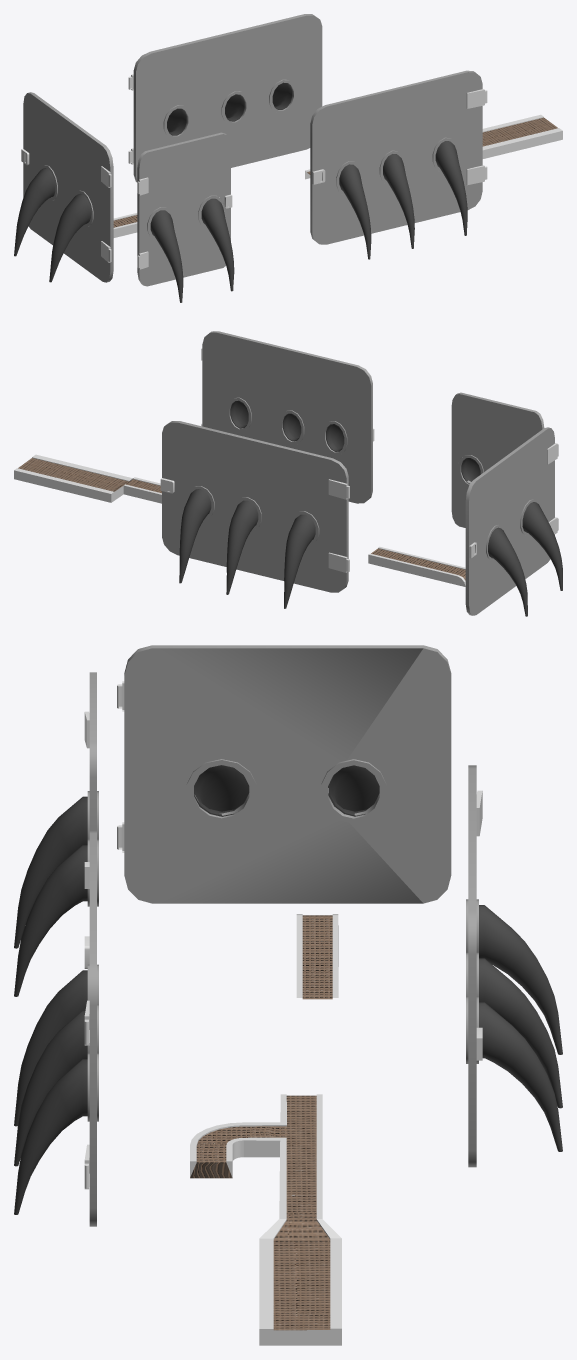
Rendered from window belt.fbx.
The picture shows the model from 3 angles, top to bottom: view 1: azimuth 30°, elevation 25°; view 2: azimuth 150°, elevation 25°; view 3: azimuth 270°, elevation 25°; orthographic projection. The views are drawn at different scales.
Visible parts, largest first — view 1: vial_belt_og:vial_belt_1:Conveyer_Belt:Conveyer_Belt:polySur (×4), vial_belt_og:vial_belt_1:Conveyer_Belt:Conveyer_Belt:Conveye, vial_belt_og:vial_belt_1:polySurface1065; view 2: vial_belt_og:vial_belt_1:Conveyer_Belt:Conveyer_Belt:polySur (×4), vial_belt_og:vial_belt_1:Conveyer_Belt:Conveyer_Belt:Conveye, vial_belt_og:vial_belt_1:polySurface1065; view 3: vial_belt_og:vial_belt_1:Conveyer_Belt:Conveyer_Belt:polySur (×4), vial_belt_og:vial_belt_1:polySurface1065, vial_belt_og:vial_belt_1:Conveyer_Belt:Conveyer_Belt:Conveye.
Part boxes in pixels (x1,y1,x2,y2): vial_belt_og:vial_belt_1:Conveyer_Belt:Conveyer_Belt:polySur (×4): [14, 70, 487, 302]; vial_belt_og:vial_belt_1:Conveyer_Belt:Conveyer_Belt:Conveye: [128, 14, 322, 182]; vial_belt_og:vial_belt_1:polySurface1065: [305, 114, 562, 179]; vial_belt_og:vial_belt_1:Conveyer_Belt:Conveyer_Belt:polySur (×4): [201, 331, 562, 616]; vial_belt_og:vial_belt_1:Conveyer_Belt:Conveyer_Belt:Conveye: [160, 421, 349, 608]; vial_belt_og:vial_belt_1:polySurface1065: [14, 454, 161, 503]; vial_belt_og:vial_belt_1:Conveyer_Belt:Conveyer_Belt:polySur (×4): [14, 645, 451, 1226]; vial_belt_og:vial_belt_1:polySurface1065: [190, 1094, 341, 1345]; vial_belt_og:vial_belt_1:Conveyer_Belt:Conveyer_Belt:Conveye: [466, 765, 562, 1167].
Bounding box in the file's own units: 379 × 99.57 × 183.
